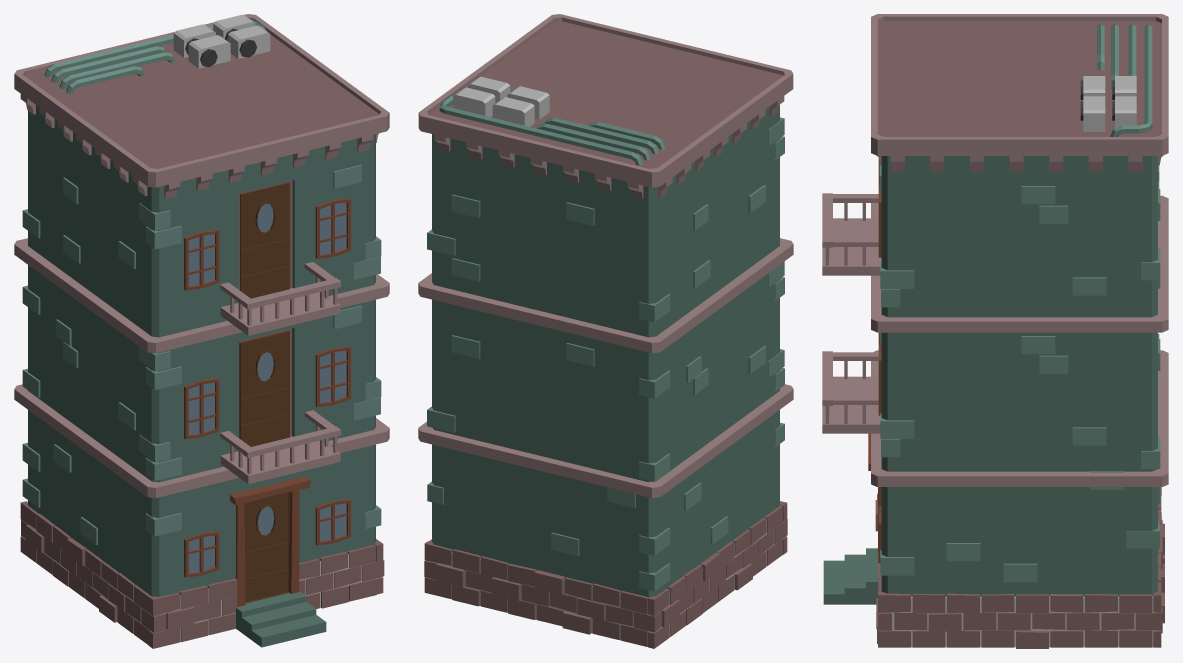
Rendered from 3Story_Balcony_Mat.glb.
3 views of the same model, side by side, from view 1: azimuth 30°, elevation 25°; view 2: azimuth 150°, elevation 25°; view 3: azimuth 270°, elevation 25° (orthographic). The views are drawn at different scales.
Visible parts, largest first — view 1: 3Story_Balcony_Mat; view 2: 3Story_Balcony_Mat; view 3: 3Story_Balcony_Mat.
Boxes of the visible parts, box(x1,y1,x2,y2) form: 3Story_Balcony_Mat: box(14, 14, 389, 648); 3Story_Balcony_Mat: box(418, 14, 793, 648); 3Story_Balcony_Mat: box(822, 14, 1168, 648).
Size of the model in its own units: 2.16 by 4.21 by 2.51.
